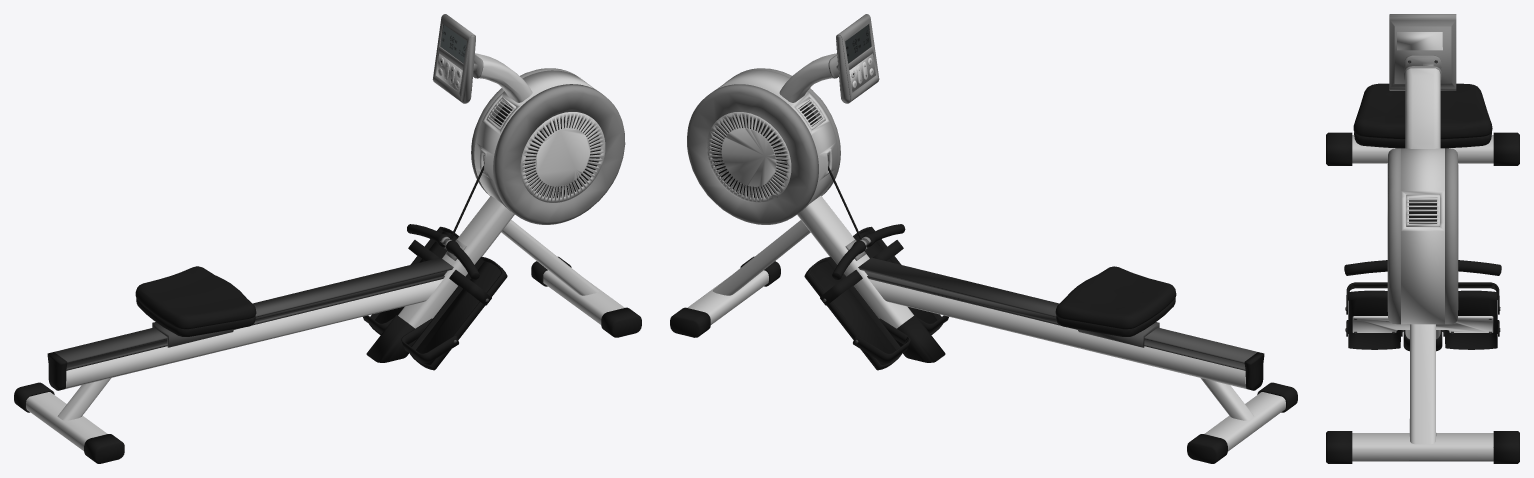
The model's file is Rowing Machine.fbx.
The picture shows the model from 3 angles, left to right: view 1: azimuth 30°, elevation 25°; view 2: azimuth 150°, elevation 25°; view 3: azimuth 270°, elevation 25°; orthographic projection. The views are drawn at different scales.
Parts seen in each view (by area): view 1: cgaxis_models_57_05.002; view 2: cgaxis_models_57_05.002; view 3: cgaxis_models_57_05.002.
Part boxes in pixels (<box>): cgaxis_models_57_05.002: <box>14,14,641,463</box>; cgaxis_models_57_05.002: <box>670,14,1297,463</box>; cgaxis_models_57_05.002: <box>1326,14,1519,463</box>.
Bounding box in the file's own units: 6810 × 3649 × 1732.
